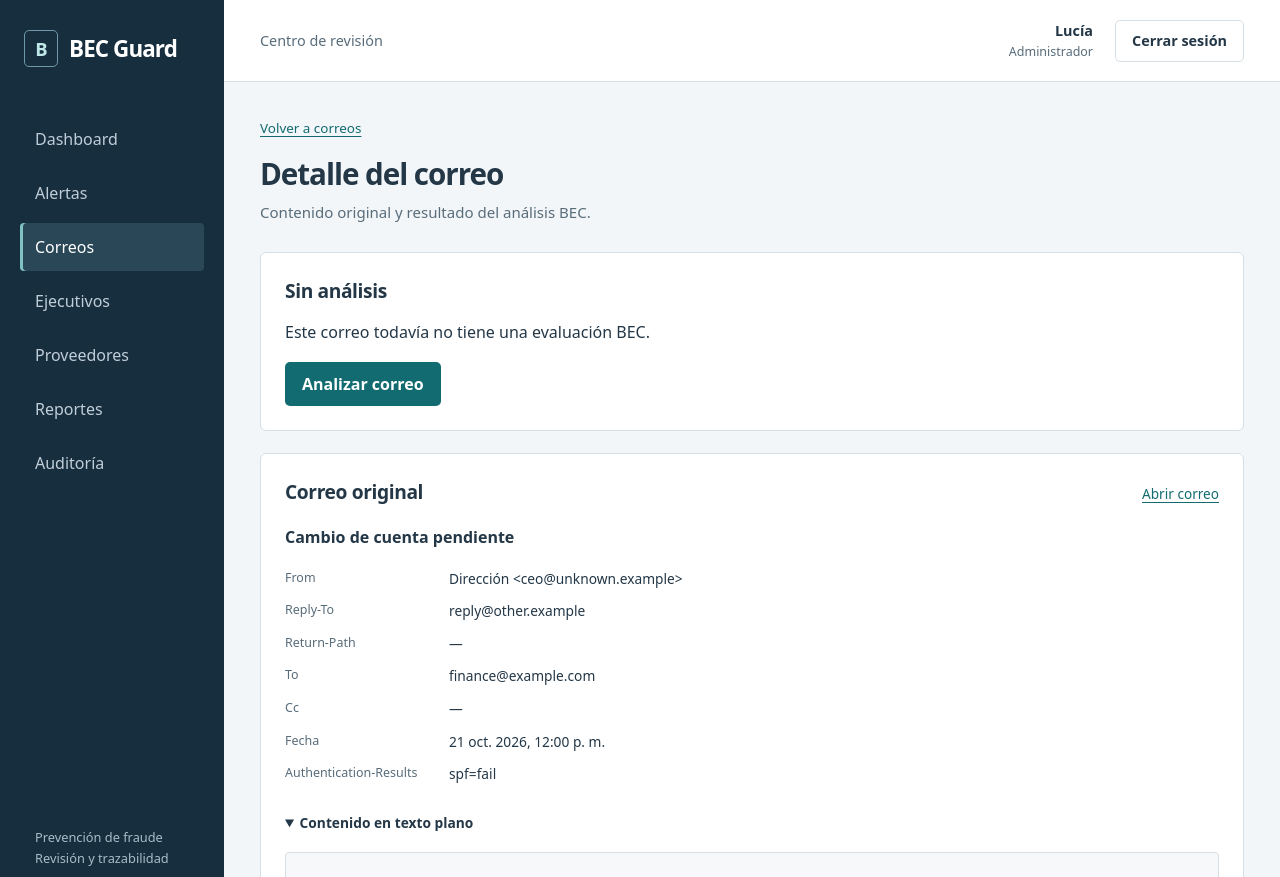
Test: manual analysis permissions ADMIN
Expected: the heading "Sin análisis" is shown, [285,277,387,304]
Click the button "Analizar correo": (363, 384) [285,362,441,406]
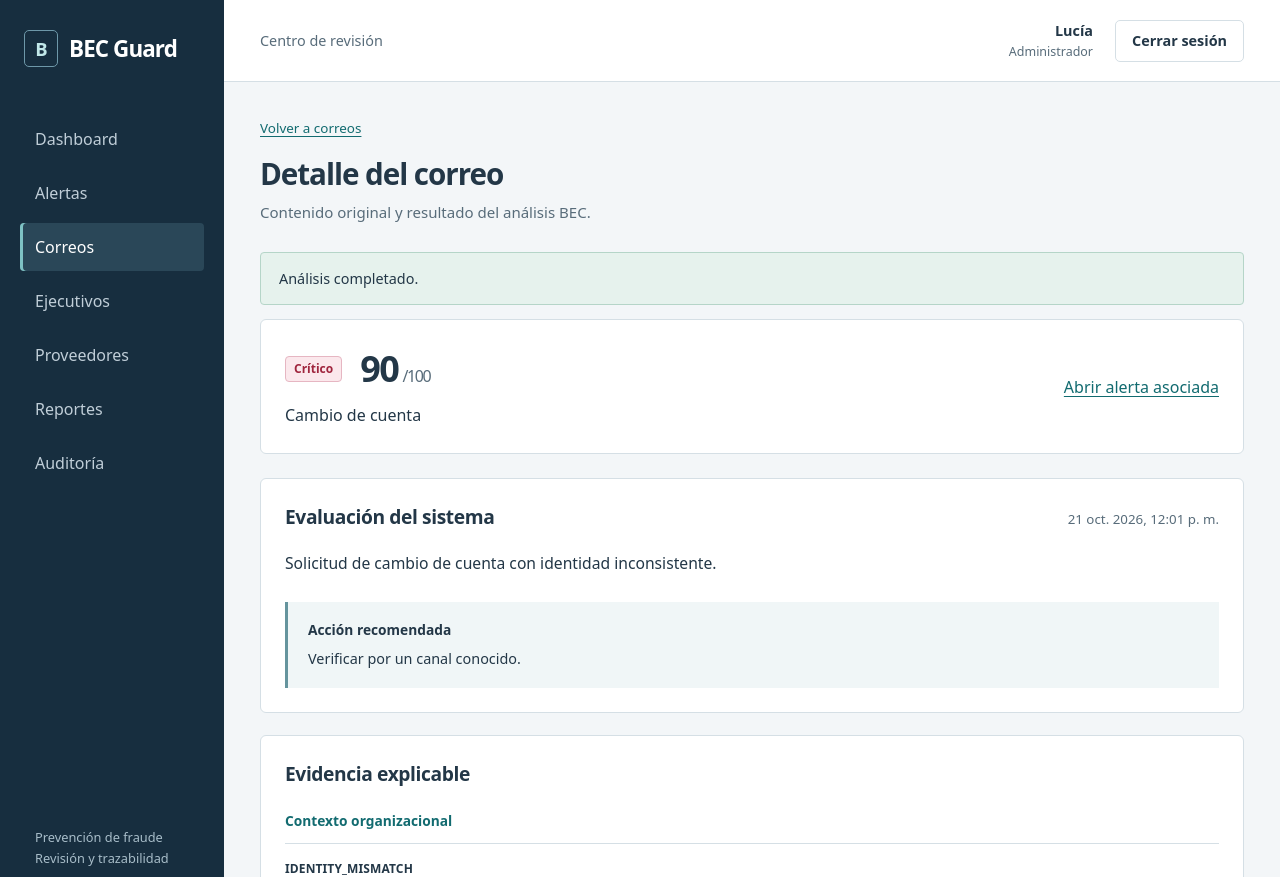
Expected: the text "Solicitud de cambio de cuenta con identidad inconsistente." is shown, [285,552,716,574]
Expected: the link "Abrir alerta asociada" is shown, [1064,376,1219,398]
